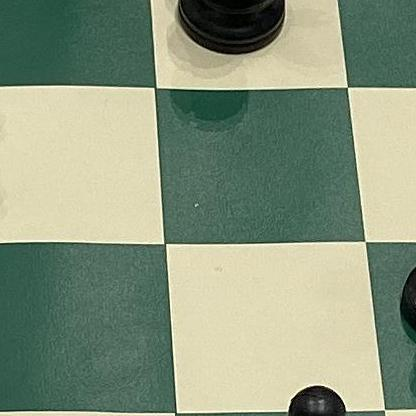black-pawn: (241, 368, 364, 416)
black-rook: (166, 0, 306, 66)
